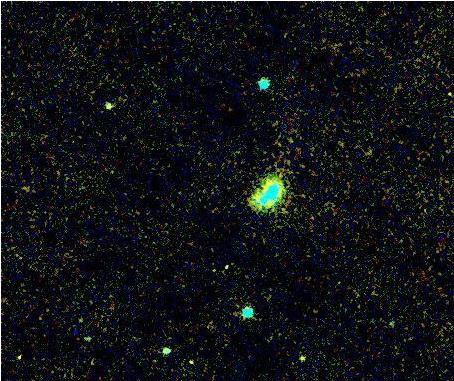star: (95, 89, 125, 119)
